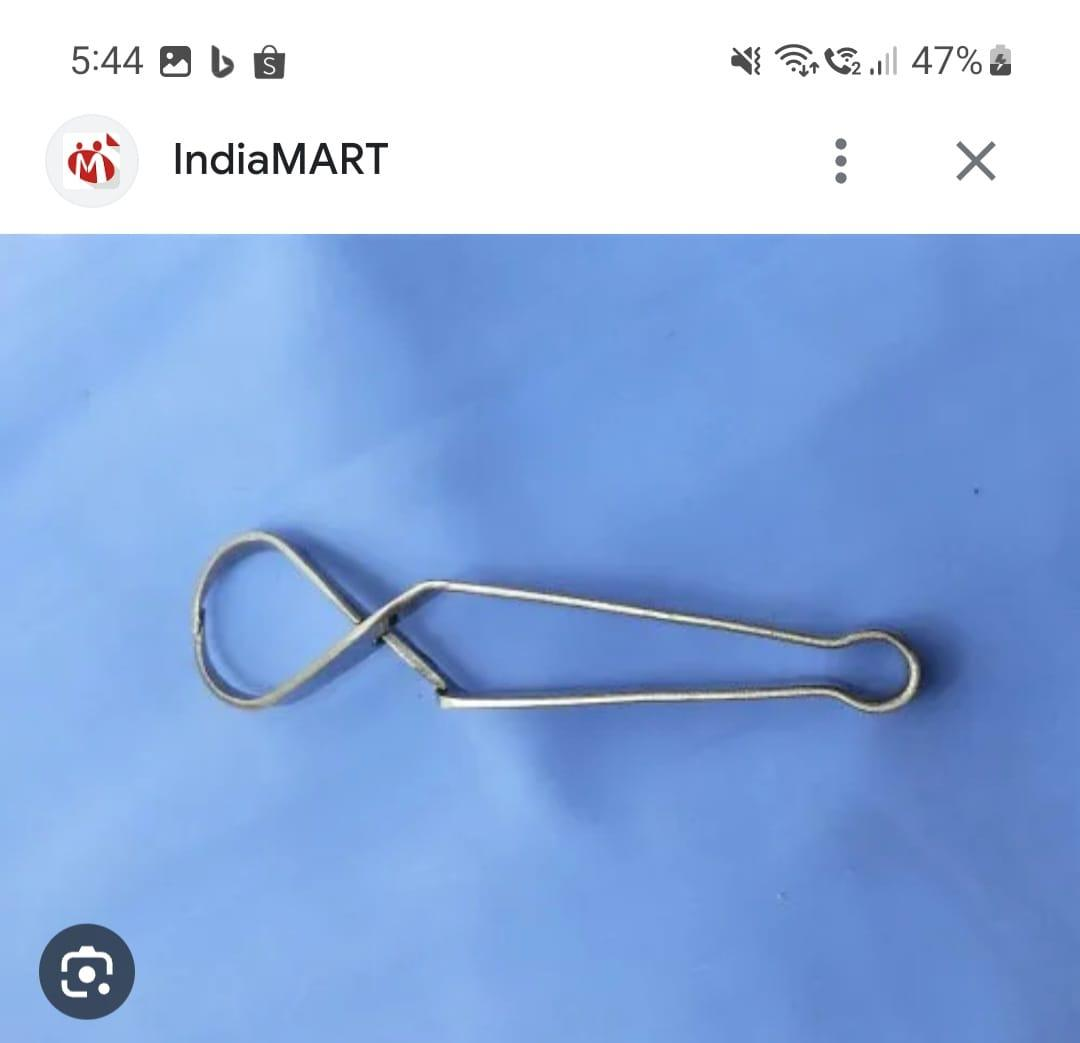Doyen Cross Action Towel Clamp: (167, 513, 938, 747)
